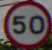Speed limit: (3, 1, 48, 43)
